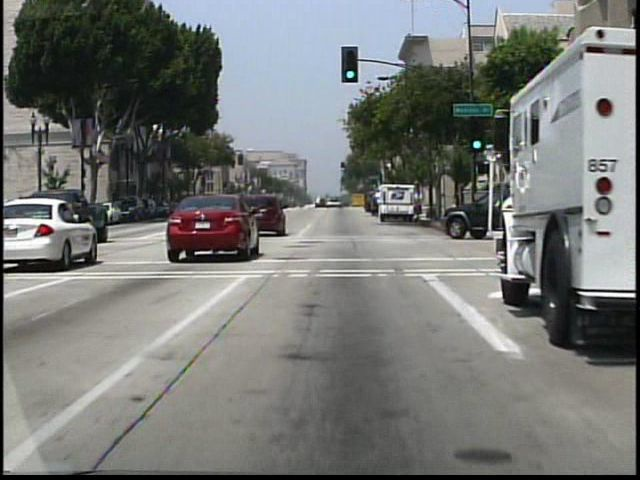person: (413, 188, 425, 222)
